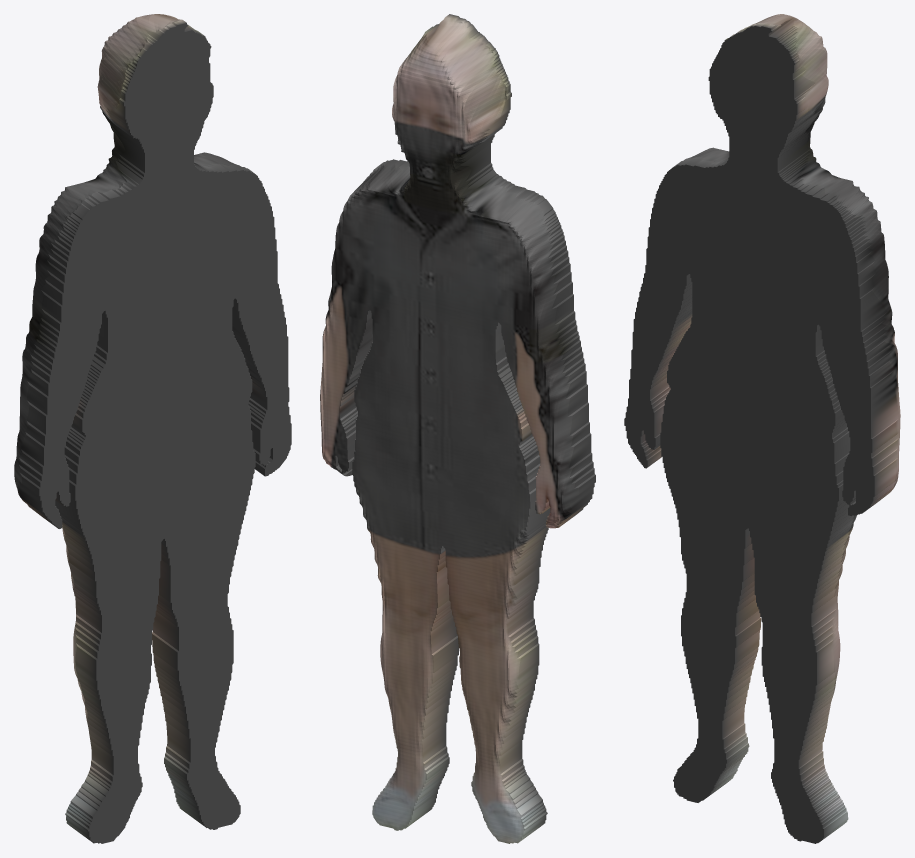
The model's file is avatar_204313.glb.
3 views of the same model, side by side, from view 1: azimuth 30°, elevation 25°; view 2: azimuth 150°, elevation 25°; view 3: azimuth 330°, elevation 25° (orthographic).
Parts seen in each view (by area): view 1: world; view 2: world; view 3: world.
Part boxes in pixels (x1,y1,x2,y2): world: (14, 14, 291, 843); world: (320, 14, 595, 843); world: (624, 14, 900, 843).
Size of the model in its own units: 43.4 by 134 by 11.79.
